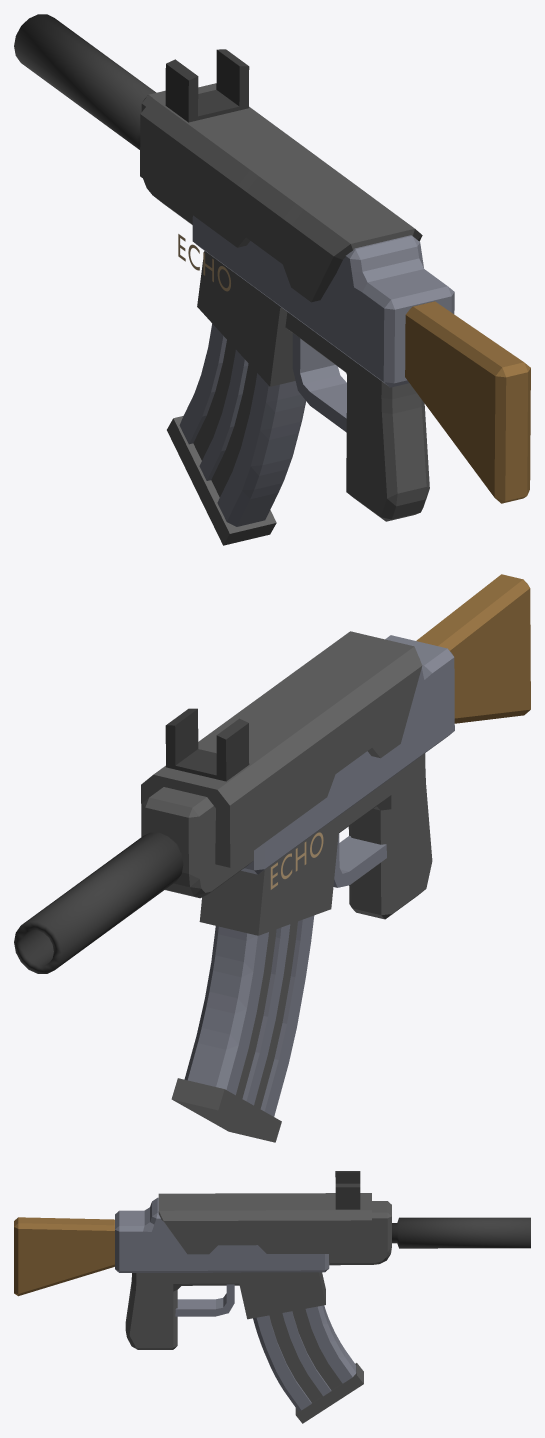
The model's file is AK47_Echo.glb.
3 views of the same model, one above another, from view 1: azimuth 30°, elevation 25°; view 2: azimuth 150°, elevation 25°; view 3: azimuth 270°, elevation 25° (orthographic). The views are drawn at different scales.
Parts seen in each view (by area): view 1: AK47_Echo_Body; view 2: AK47_Echo_Body; view 3: AK47_Echo_Body.
Part boxes in pixels (x1,y1,x2,y2): AK47_Echo_Body: (14,14,530,545); AK47_Echo_Body: (14,574,530,1142); AK47_Echo_Body: (14,1171,530,1423).
Size of the model in its own units: 0.094 by 0.4416 by 0.86.
5 materials, 1 textured.
